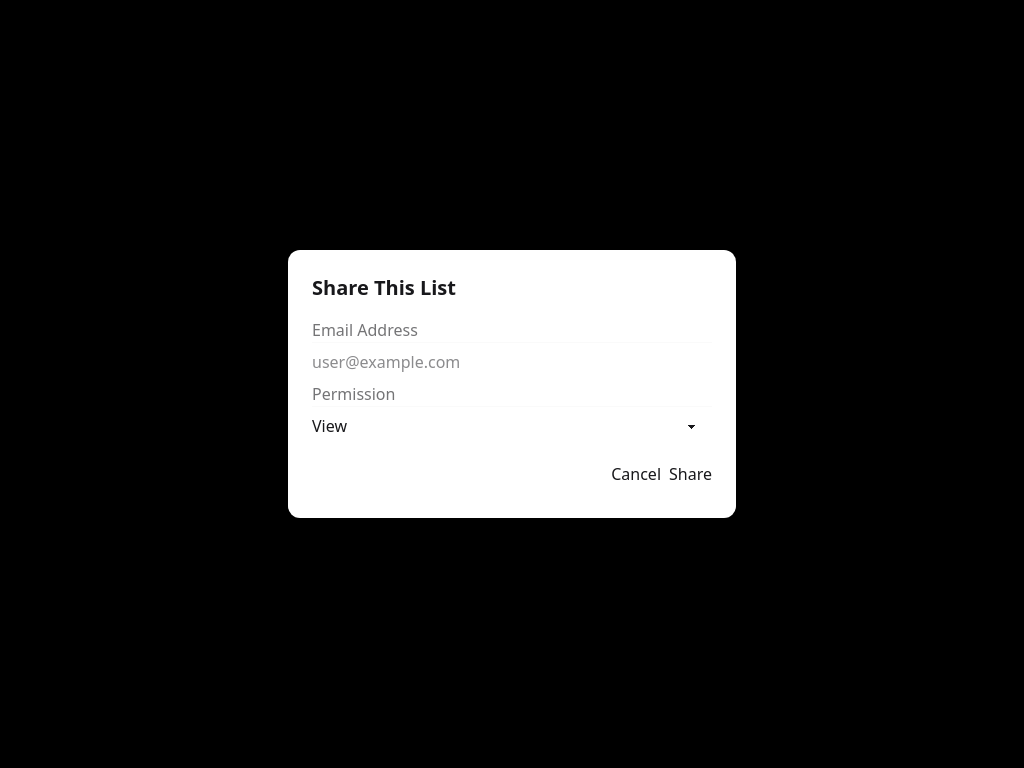
Test case: ShareListModal › should show error toast when email matches own email
Type "test@example.com" into the field with placeholder "user@example.com".
click(512, 362); type("test@example.com")  # box top-left (312, 342), bottom-right (712, 382)
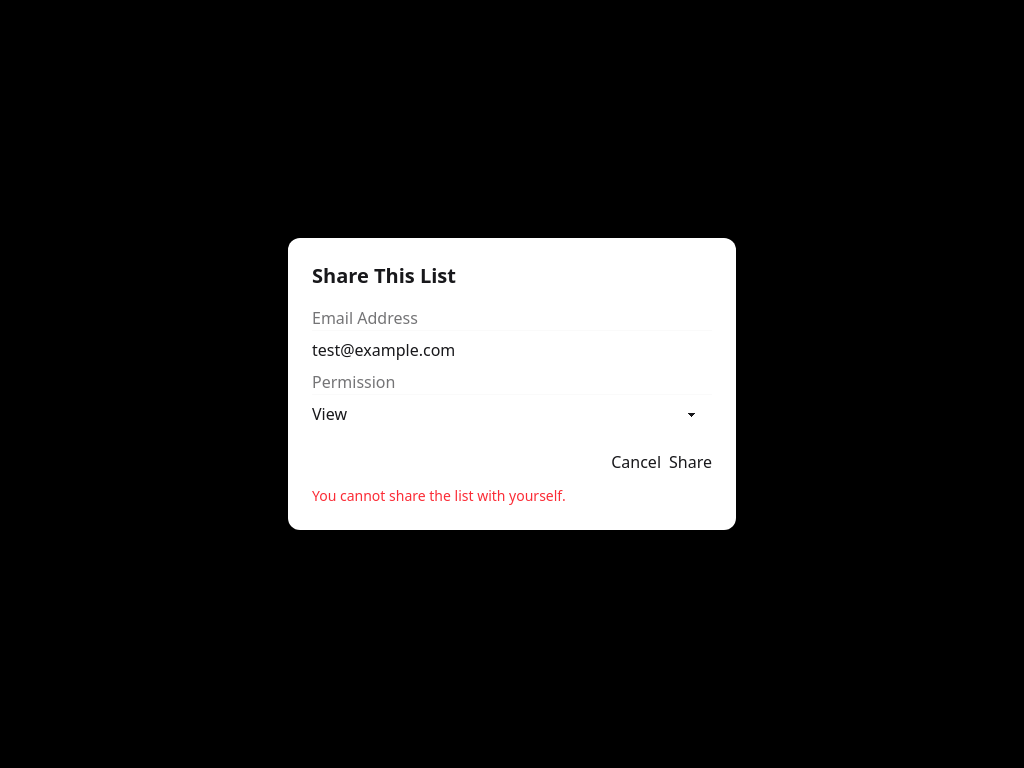
Expected: the button "Share" is disabled, top-left (669, 442), bottom-right (712, 482)
Expected: the text "You cannot share the list with yourself." is shown, top-left (312, 486), bottom-right (566, 505)
